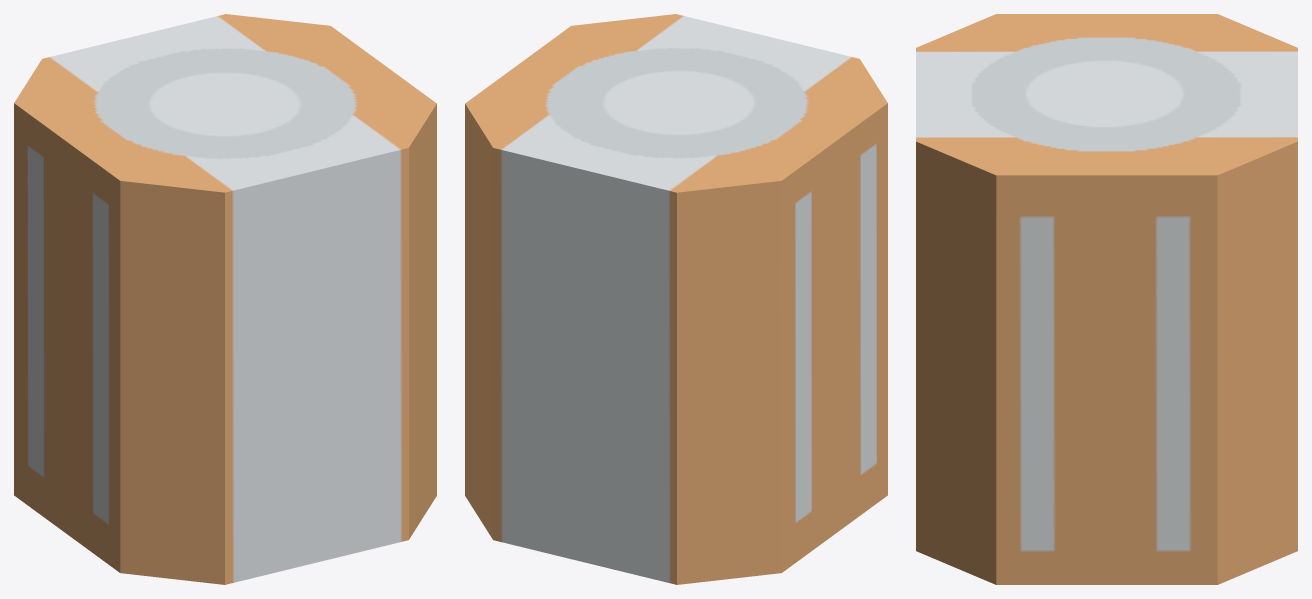
Rendered from AddonCylinder.fbx.
3 views of the same model, side by side, from view 1: azimuth 30°, elevation 25°; view 2: azimuth 150°, elevation 25°; view 3: azimuth 270°, elevation 25° (orthographic). The views are drawn at different scales.
Parts seen in each view (by area): view 1: Cube.003; view 2: Cube.003; view 3: Cube.003.
Part boxes in pixels (x1,y1,x2,y2): Cube.003: [14, 14, 436, 584]; Cube.003: [465, 14, 887, 584]; Cube.003: [916, 14, 1297, 584].
Size of the model in its own units: 1.15 by 1.36 by 1.15.
